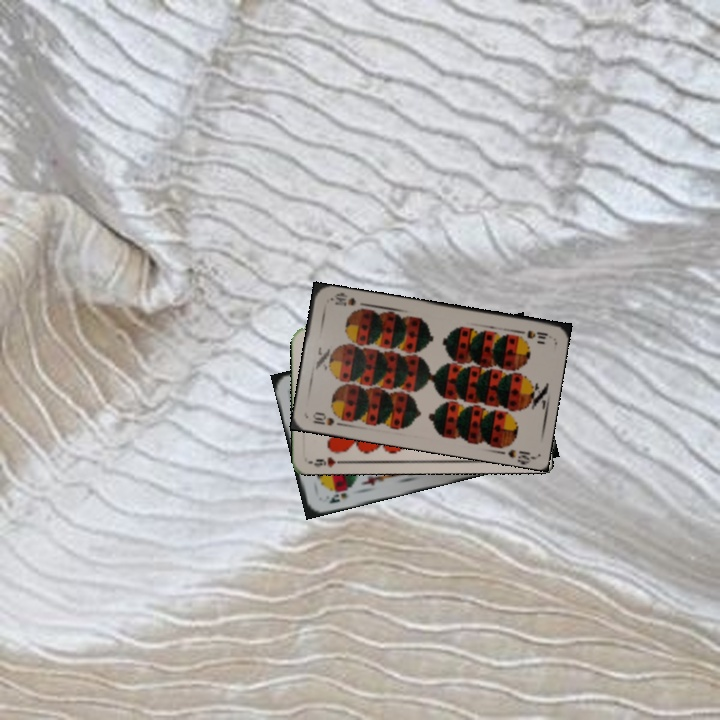H9: (307, 453, 347, 470)
S10: (309, 408, 348, 429), (512, 326, 550, 342)
SK: (325, 488, 350, 506)
